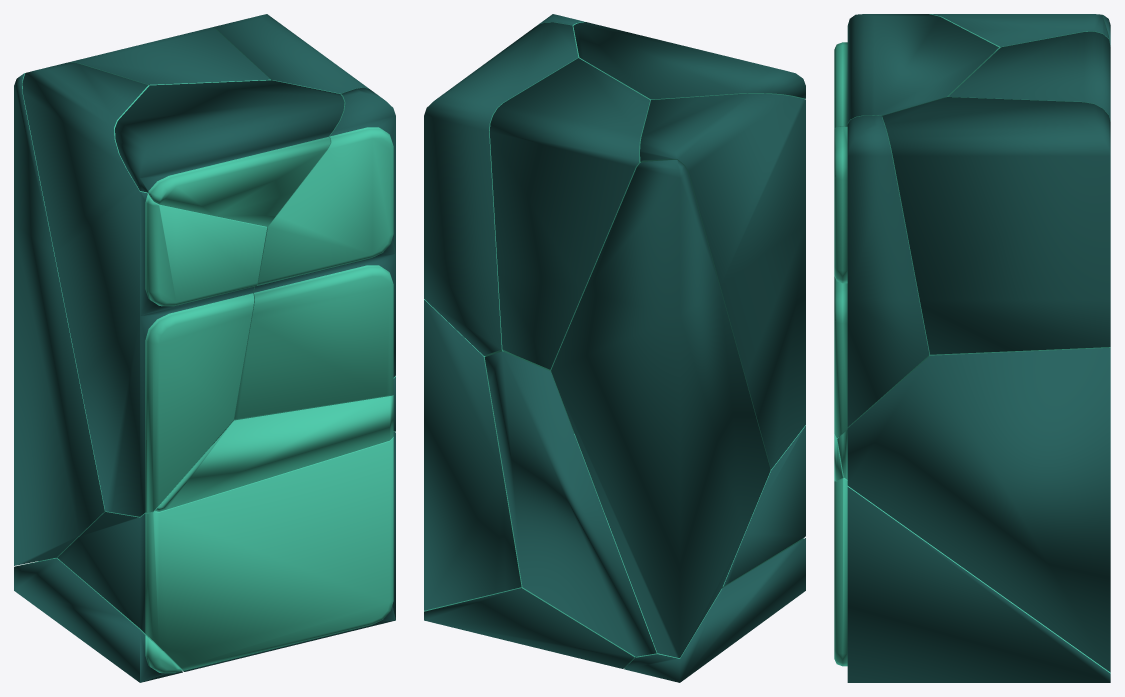
File: Nevera_Roto.fbx
3 renders of one model, left to right at view 1: azimuth 30°, elevation 25°; view 2: azimuth 150°, elevation 25°; view 3: azimuth 270°, elevation 25°, orthographic. The views are drawn at different scales.
Visible parts, largest first — view 1: Nevera_cell.001, Nevera_cell.006, Nevera_cell.002, Nevera_cell.007, Nevera_cell.011, Nevera_cell.010, Nevera_cell.003, Nevera_cell.012, Nevera_cell.005; view 2: Nevera_cell.011, Nevera_cell.001, Nevera_cell.012, Nevera_cell, Nevera_cell.005, Nevera_cell.013, Nevera_cell.006, Nevera_cell.007, Nevera_cell.003; view 3: Nevera_cell.013, Nevera_cell.005, Nevera_cell.006, Nevera_cell.002, Nevera_cell.007, Nevera_cell.012, Nevera_cell.001.
Boxes of the visible parts, x1,y1,x2,y2 form: Nevera_cell.001: (22,62,267,516); Nevera_cell.006: (53,432,395,671); Nevera_cell.002: (227,87,395,427); Nevera_cell.007: (115,80,344,226); Nevera_cell.011: (14,73,104,565); Nevera_cell.010: (155,396,393,511); Nevera_cell.003: (14,558,182,682); Nevera_cell.012: (69,27,270,444); Nevera_cell.005: (212,14,368,94); Nevera_cell.011: (551,159,770,658); Nevera_cell.001: (640,93,805,469); Nevera_cell.012: (489,58,650,433); Nevera_cell: (484,351,656,656); Nevera_cell.005: (424,22,585,356); Nevera_cell.013: (424,299,605,610); Nevera_cell.006: (424,425,805,668); Nevera_cell.007: (573,22,805,100); Nevera_cell.003: (624,538,805,682); Nevera_cell.013: (837,348,1110,672); Nevera_cell.005: (882,97,1110,355); Nevera_cell.006: (834,476,1110,682); Nevera_cell.002: (834,115,929,437); Nevera_cell.007: (834,14,998,128); Nevera_cell.012: (946,31,1110,121); Nevera_cell.001: (929,14,1108,52).
Bounding box in the file's own units: 78.92 × 154 × 70.79.
